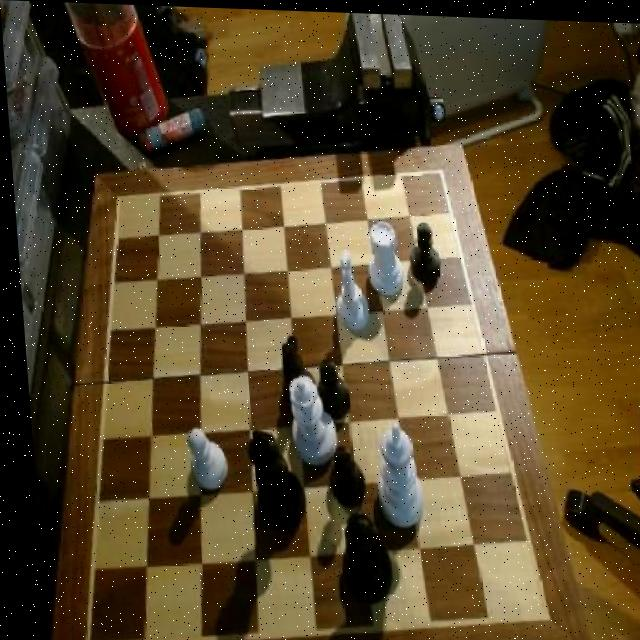black-bishop: (240, 425, 303, 535)
black-king: (273, 332, 317, 405)
black-knight: (321, 442, 361, 511), (308, 356, 347, 422), (403, 216, 440, 285)
black-pawn: (332, 506, 389, 603)
white-bishop: (365, 419, 419, 527)
white-king: (328, 246, 368, 331)
white-knight: (179, 426, 225, 494)
white-pawn: (280, 371, 335, 468)
white-queen: (361, 216, 403, 297)
